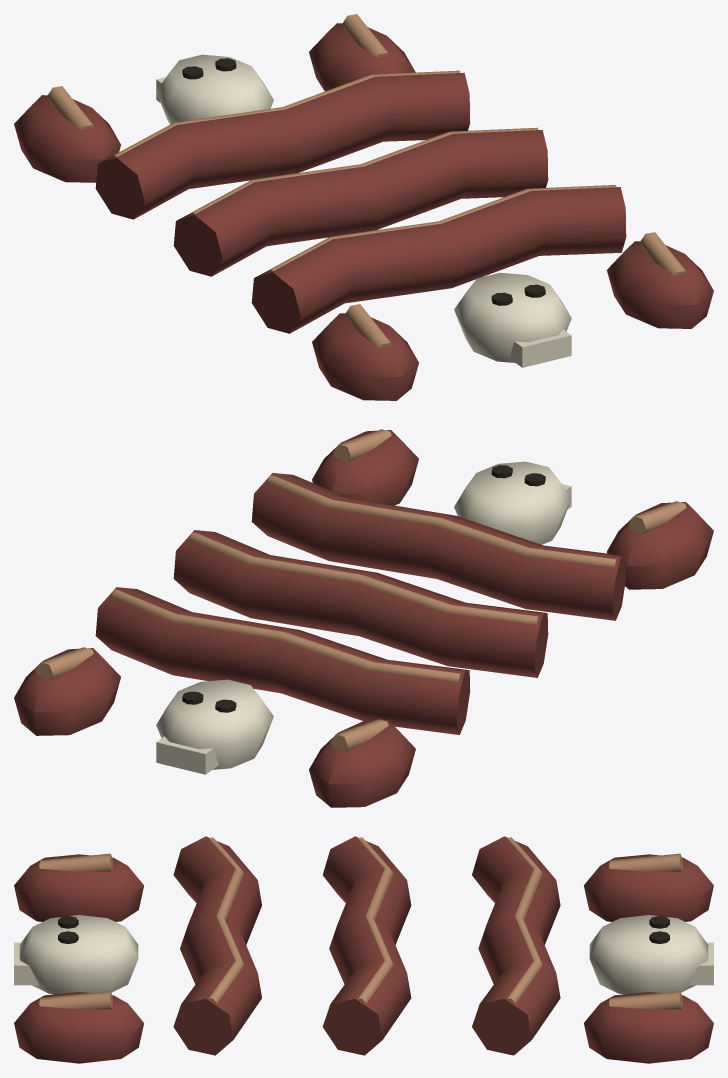
File: cannibal_platter.obj
3 renders of one model, top to bottom at view 1: azimuth 30°, elevation 25°; view 2: azimuth 150°, elevation 25°; view 3: azimuth 270°, elevation 25°, orthographic. The views are drawn at different scales.
Visible parts, largest first — view 1: source_component_000, source_component_004, source_component_002, source_component_010, source_component_006, source_component_008, source_component_014, source_component_018, source_component_016, source_component_011, source_component_005, source_component_003 (+5 smaller); view 2: source_component_000, source_component_002, source_component_004, source_component_018, source_component_010, source_component_014, source_component_016, source_component_006, source_component_008, source_component_003, source_component_005, source_component_001 (+5 smaller); view 3: source_component_000, source_component_002, source_component_004, source_component_018, source_component_010, source_component_016, source_component_008, source_component_006, source_component_014, source_component_001, source_component_003, source_component_005 (+6 smaller).
Boxes of the visible parts, box(x1,y1,x2,y2) form: source_component_000: box(251, 187, 626, 333); source_component_004: box(95, 72, 470, 219); source_component_002: box(173, 130, 548, 276); source_component_010: box(454, 272, 571, 362); source_component_006: box(312, 313, 418, 400); source_component_008: box(607, 241, 713, 328); source_component_014: box(14, 95, 120, 182); source_component_018: box(156, 54, 273, 124); source_component_016: box(309, 23, 415, 91); source_component_011: box(509, 329, 571, 367); source_component_005: box(111, 70, 460, 158); source_component_003: box(189, 127, 538, 215); source_component_000: box(251, 473, 626, 620); source_component_002: box(173, 530, 548, 677); source_component_004: box(95, 587, 470, 734); source_component_018: box(156, 679, 273, 769); source_component_010: box(454, 461, 571, 544); source_component_014: box(309, 720, 415, 807); source_component_016: box(14, 648, 120, 735); source_component_006: box(607, 502, 713, 589); source_component_008: box(312, 430, 418, 505); source_component_003: box(189, 532, 538, 624); source_component_005: box(111, 589, 460, 681); source_component_001: box(267, 475, 616, 567); source_component_000: box(173, 836, 261, 1055); source_component_002: box(322, 836, 411, 1055); source_component_004: box(472, 836, 560, 1055); source_component_018: box(589, 915, 708, 994); source_component_010: box(19, 915, 138, 994); source_component_016: box(584, 992, 713, 1063); source_component_008: box(14, 992, 143, 1063); source_component_006: box(14, 854, 143, 921); source_component_014: box(584, 854, 713, 921); source_component_001: box(209, 837, 244, 1003); source_component_003: box(358, 837, 393, 1003); source_component_005: box(507, 837, 542, 1003).
Size of the model in its own units: 1.54 by 0.2647 by 2.58.
